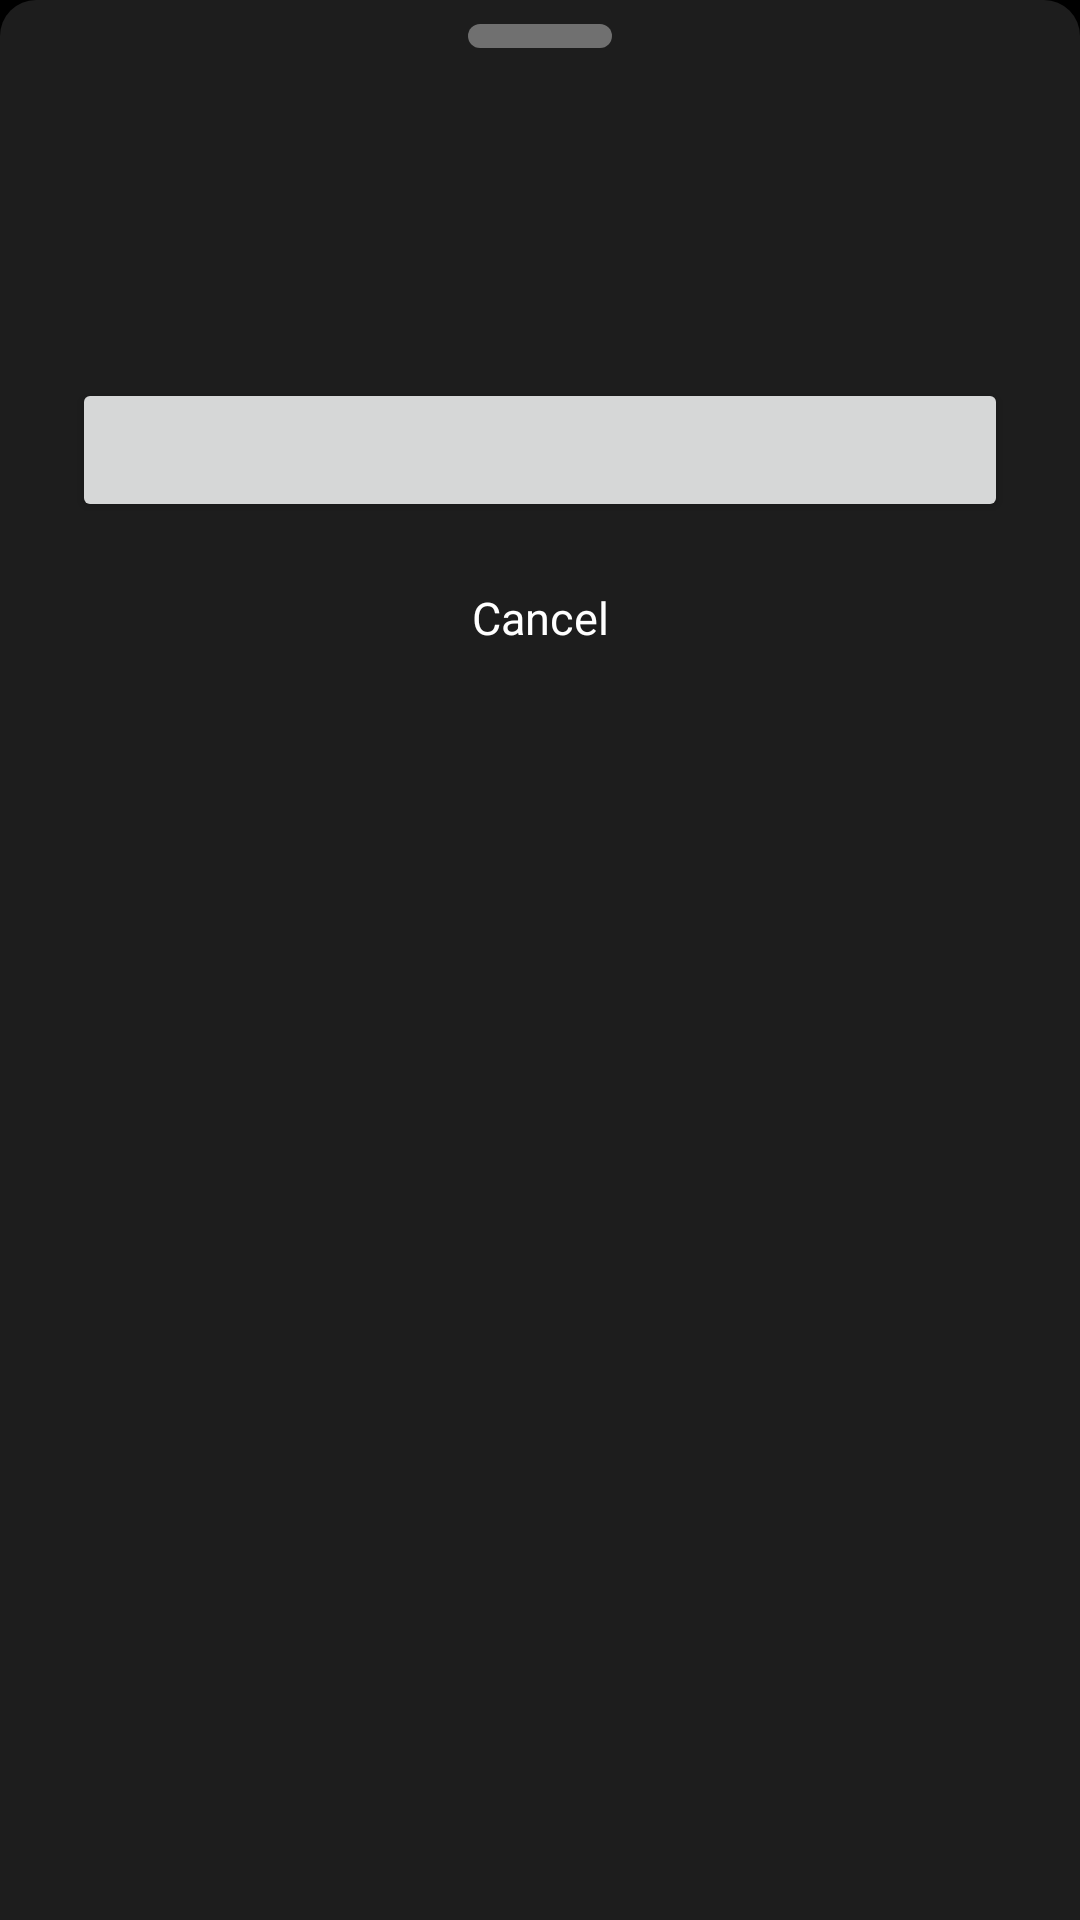

Icon click points for this 1080w x 1920h phone screenshot, format (x,y):
dragable area indicator: (540,36)
